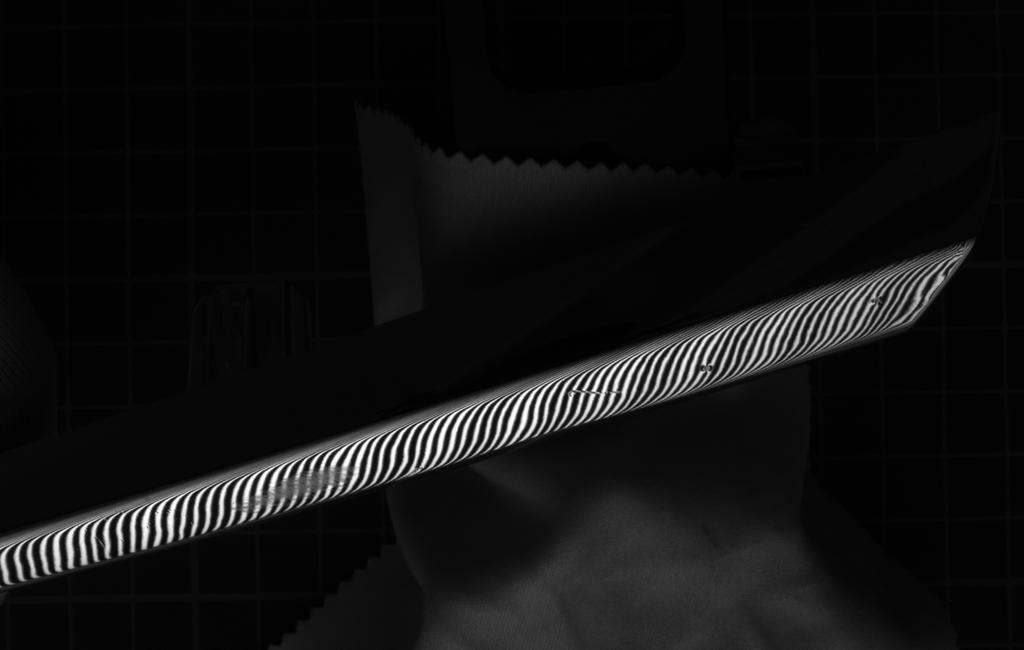Pierced: (867, 292, 892, 309), (695, 361, 720, 376)
Pitting: (227, 458, 356, 519)
Scratch: (562, 382, 634, 403)
